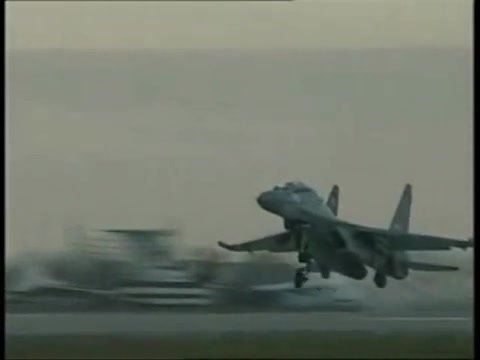aeroplane: (214, 179, 475, 292)
